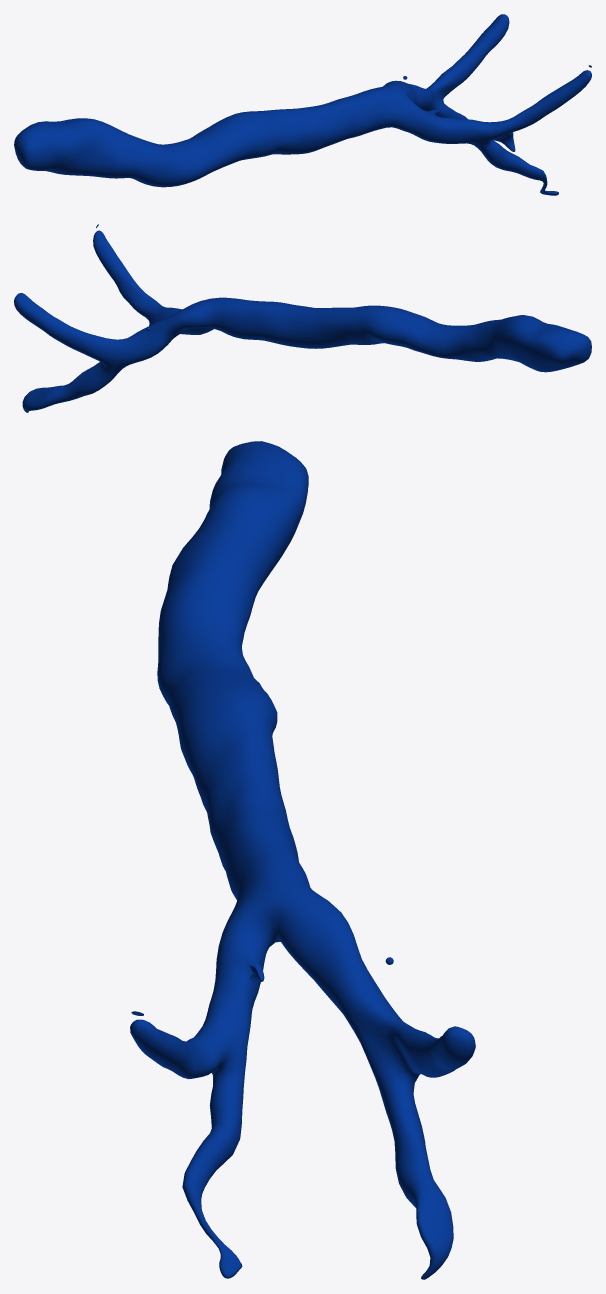
File: InferiorVenaCava.obj
3 renders of one model, top to bottom at view 1: azimuth 30°, elevation 25°; view 2: azimuth 150°, elevation 25°; view 3: azimuth 270°, elevation 25°, orthographic. The views are drawn at different scales.
Visible parts, largest first — view 1: InferiorVenaCava; view 2: InferiorVenaCava; view 3: InferiorVenaCava.
Part boxes in pixels (bbox=[...]): InferiorVenaCava: bbox=[14, 14, 591, 195]; InferiorVenaCava: bbox=[14, 224, 591, 412]; InferiorVenaCava: bbox=[130, 441, 475, 1279].
Size of the model in its own units: 13.53 by 4.41 by 3.9.
